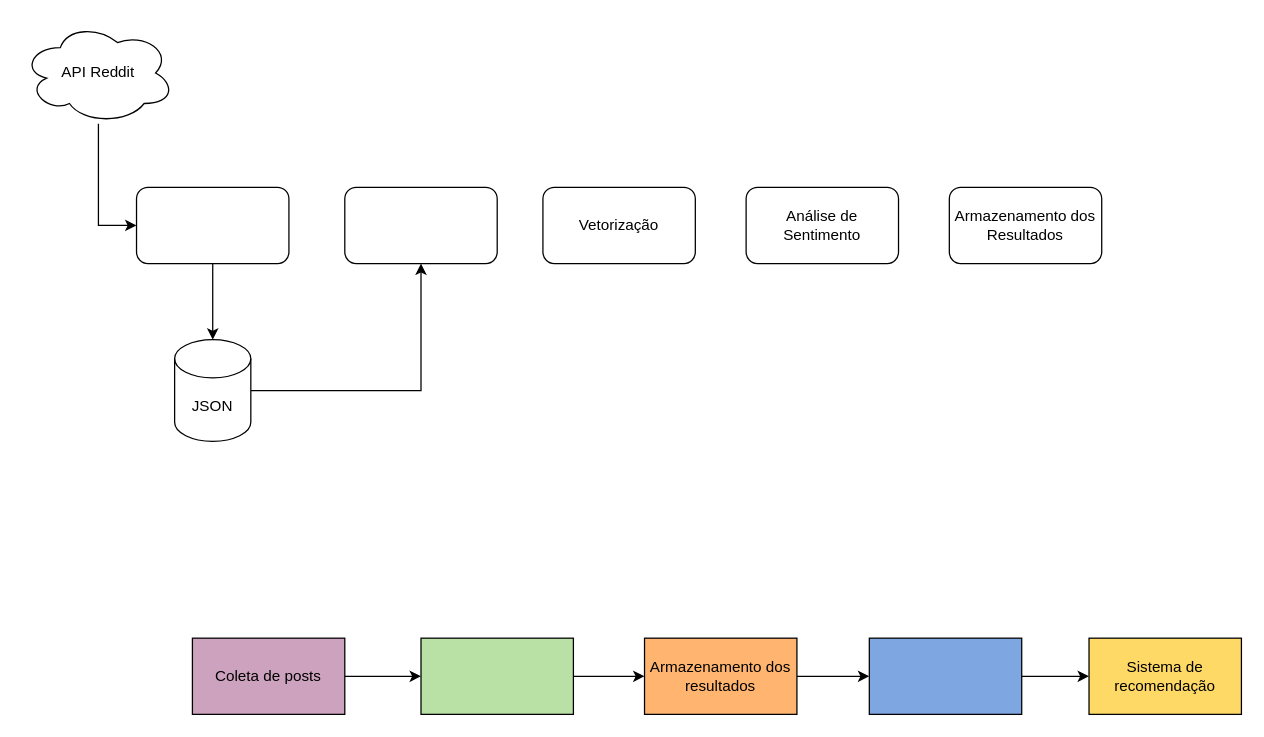
This 1264x737 diagram has some shape labels left out. The centre of each missing label's shape, as x and y in pixels:
"Aplicação de modelo" belongs at (x=945, y=675).
"Coleta de Dados" belongs at (x=212, y=225).
"Processamento de Dados" belongs at (x=420, y=225).
"Processamento dos posts" belongs at (x=496, y=675).
